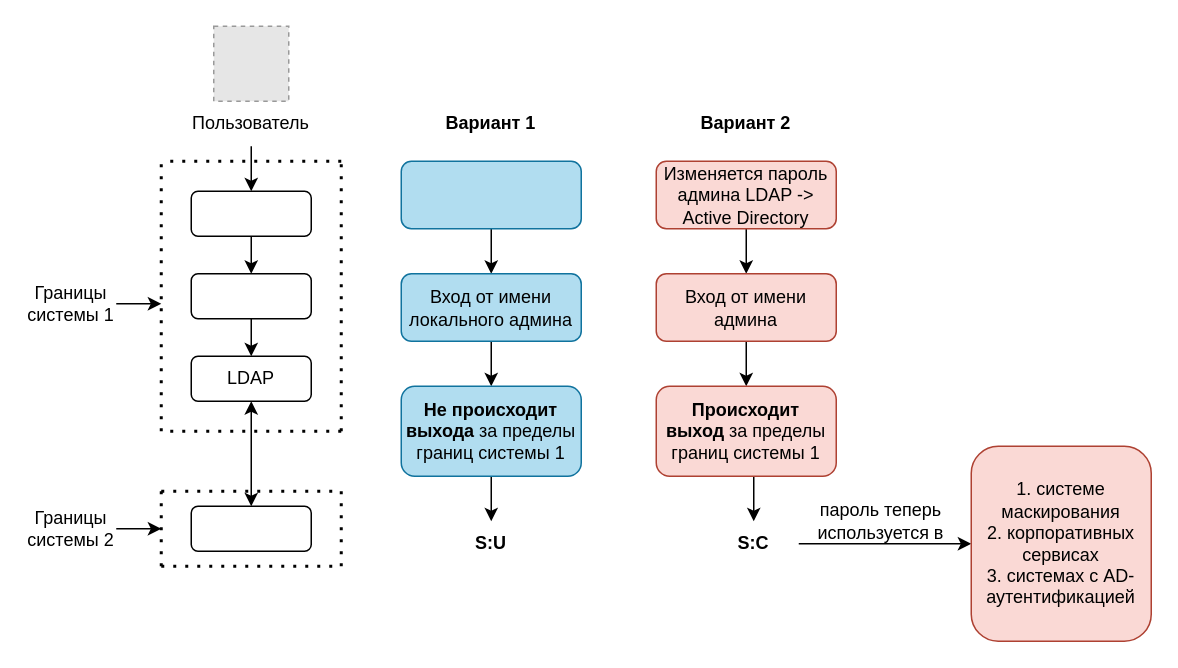
Image size: 1178x668. Some labels were removed from this diagram. Grey dashed boxes stand in for pictures. Here are the shapes that lost their labels. From the top down, the box of each, then its label:
(190, 190, 311, 236): Front
(400, 160, 581, 229): Изменяется пароль локального админа
(190, 272, 311, 319): Web API
(190, 505, 311, 551): Active Directory
